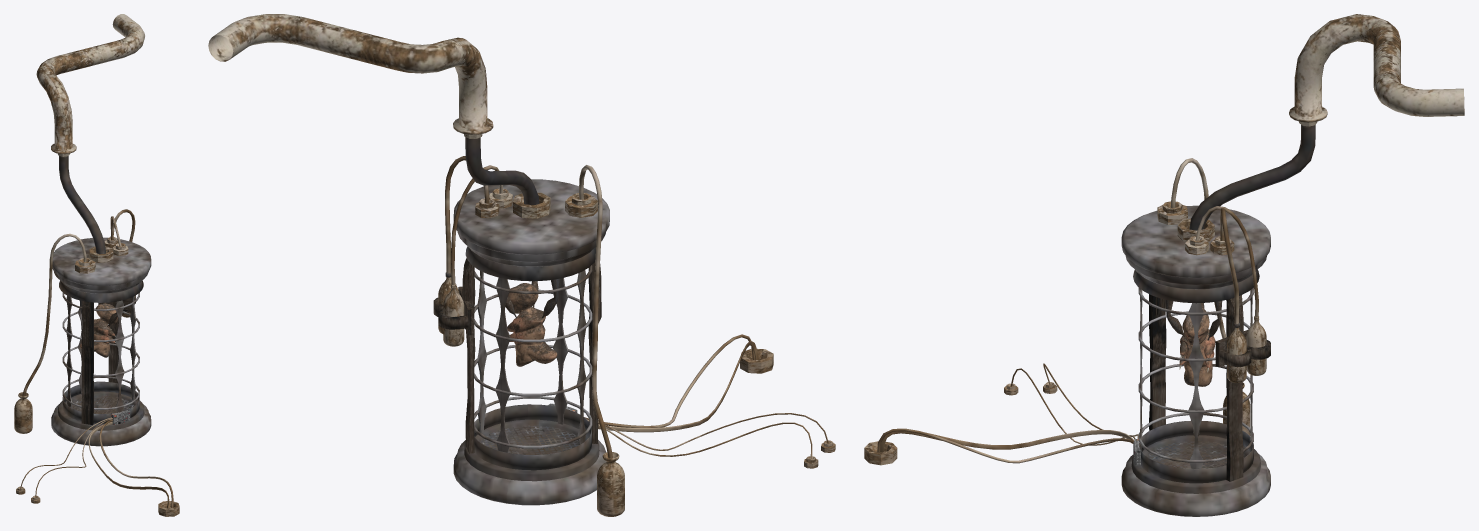
Rendered from jaula.glb.
3 renders of one model, left to right at view 1: azimuth 30°, elevation 25°; view 2: azimuth 150°, elevation 25°; view 3: azimuth 270°, elevation 25°, orthographic. The views are drawn at different scales.
Visible parts, largest first — view 1: Circle.002, Circle.003; view 2: Circle.002, Circle.003; view 3: Circle.002, Circle.003.
Part boxes in pixels (box(x1,y1,x2,y2)): Circle.002: box(14, 14, 179, 516); Circle.003: box(80, 303, 117, 357); Circle.002: box(208, 14, 835, 516); Circle.003: box(507, 283, 557, 366); Circle.002: box(864, 14, 1464, 516); Circle.003: box(1179, 308, 1215, 386).
Bounding box in the file's own units: 7.03 × 8.54 × 9.76.
Materials: 1 (1 with a texture image).
